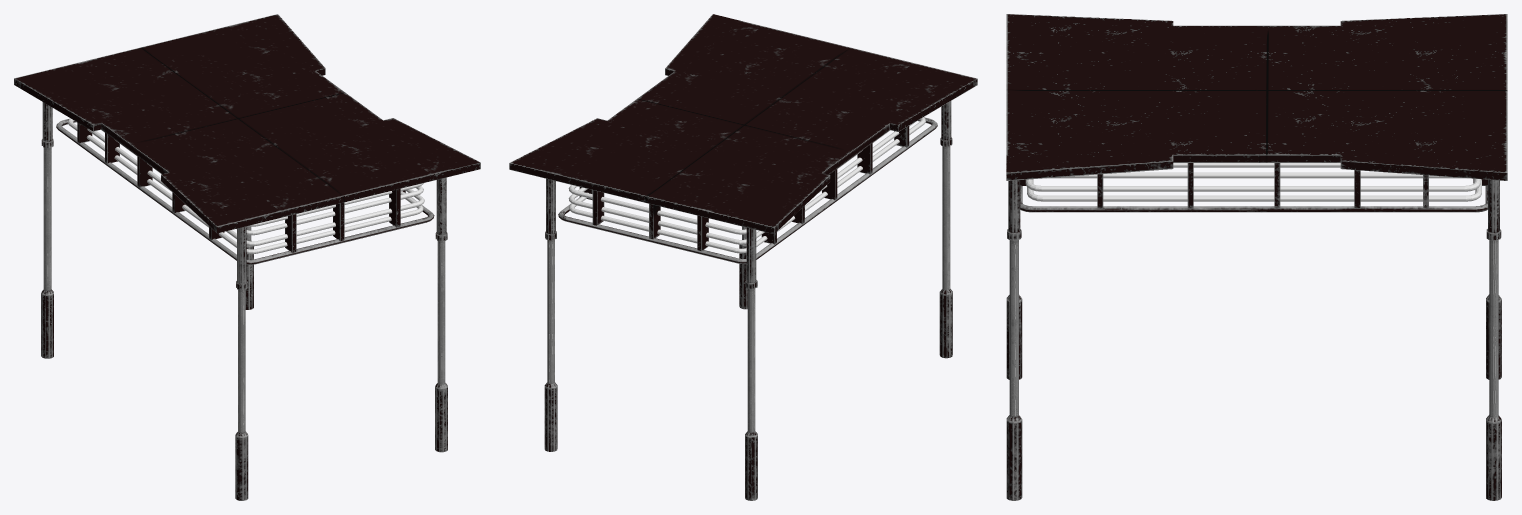
File: cyberpunk light building.fbx
The picture shows the model from 3 angles, left to right: view 1: azimuth 30°, elevation 25°; view 2: azimuth 150°, elevation 25°; view 3: azimuth 270°, elevation 25°; orthographic projection. The views are drawn at different scales.
Parts seen in each view (by area): view 1: lights; view 2: lights; view 3: lights.
Part boxes in pixels (<box>): lights: <box>14,14,480,500</box>; lights: <box>509,14,977,500</box>; lights: <box>1006,14,1507,500</box>.
Size of the model in its own units: 291 by 296 by 388.
Materials: 2 (1 with a texture image).
